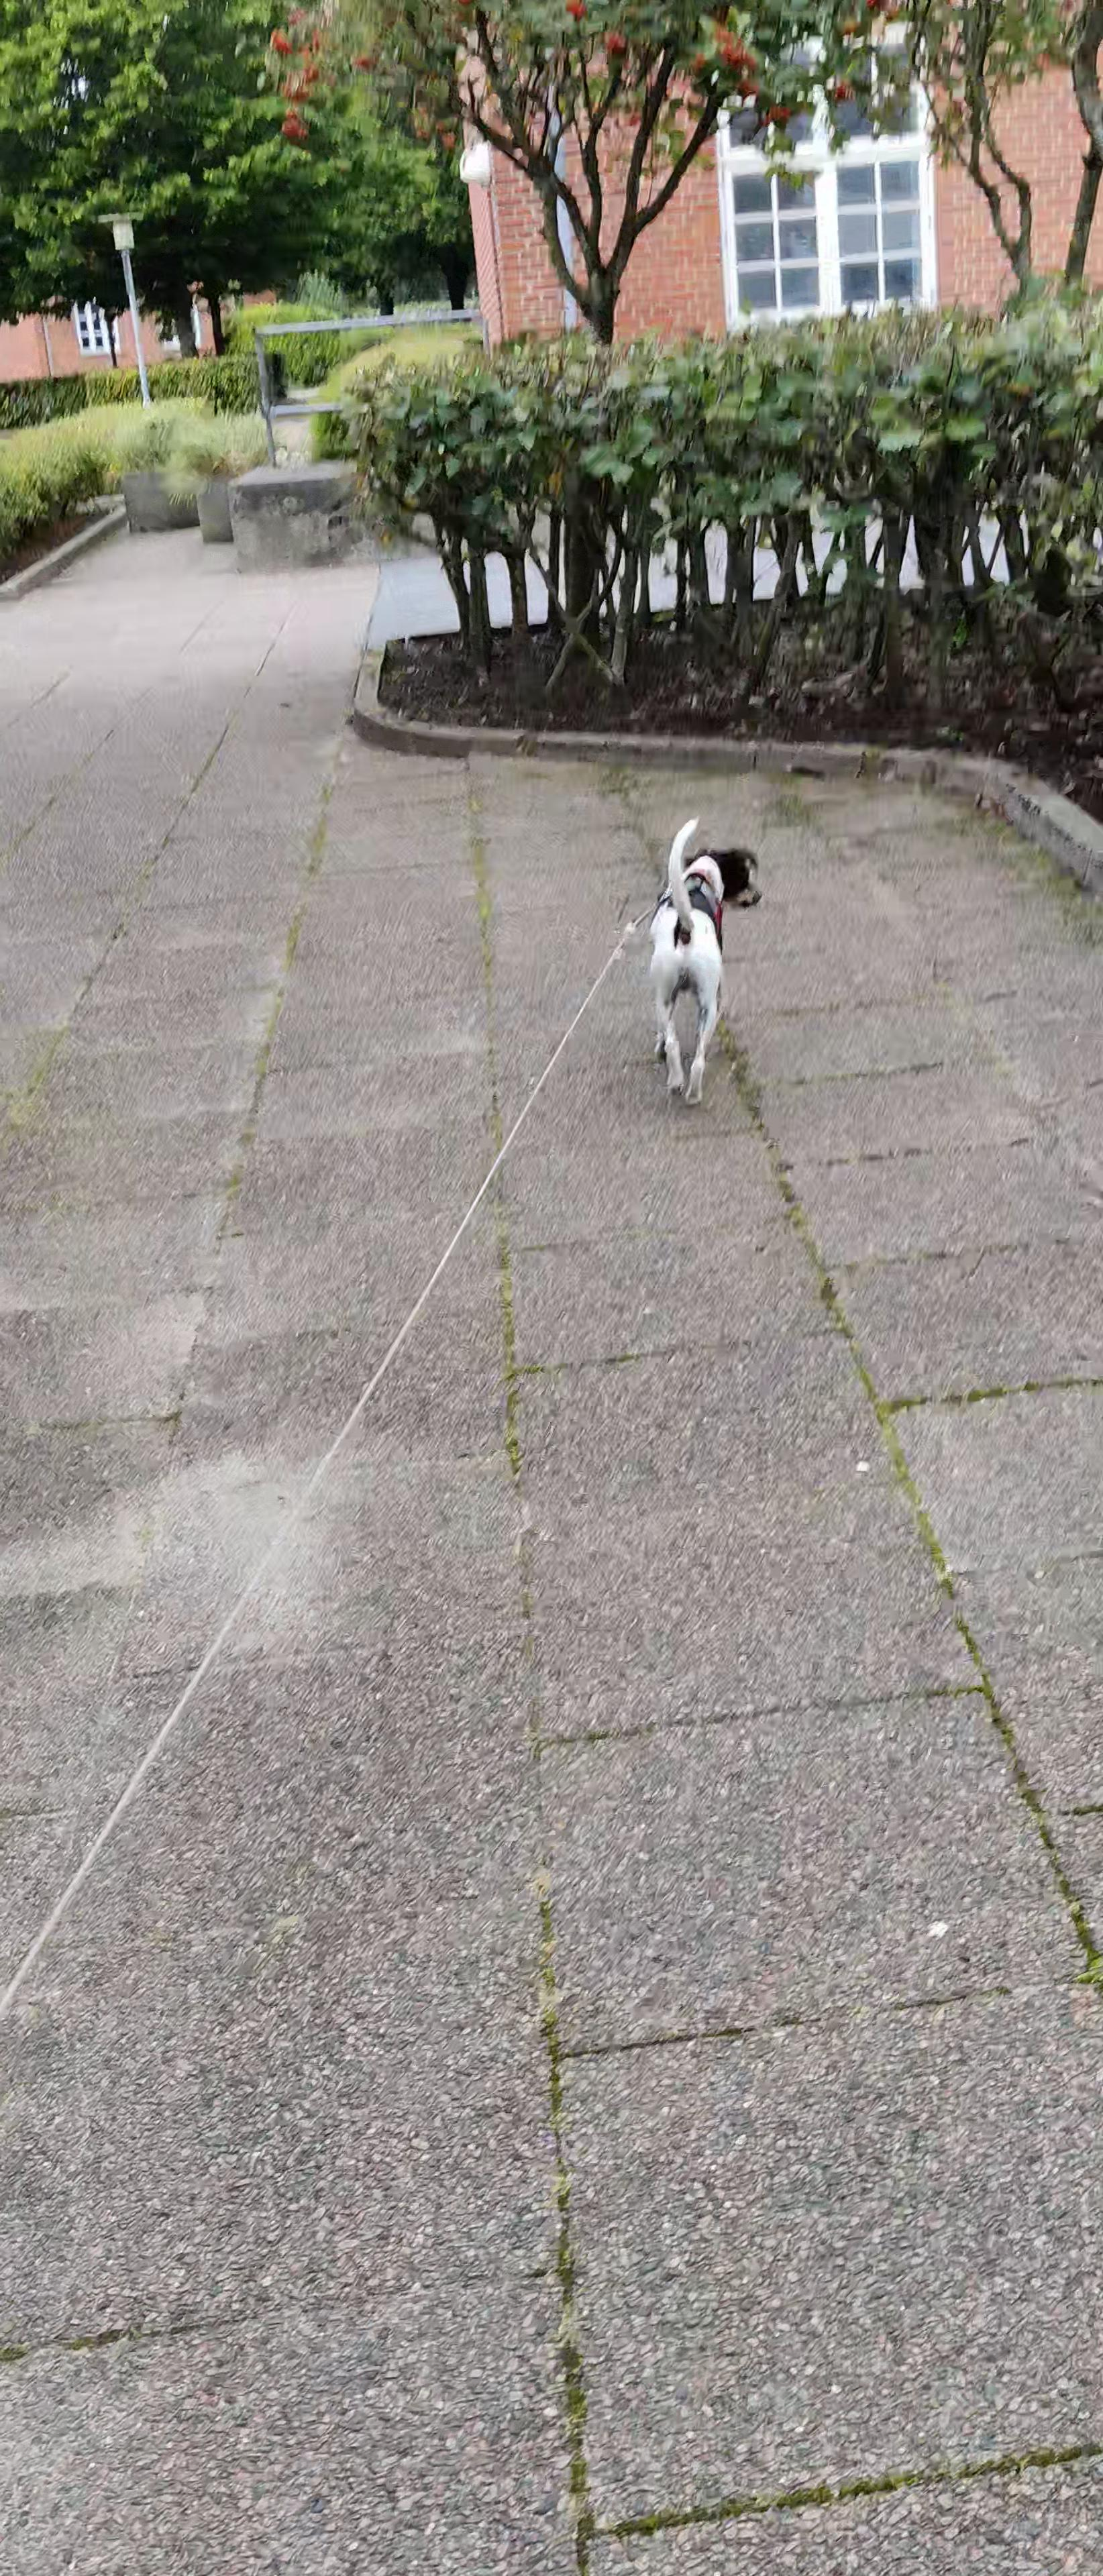Dog: (616, 807, 782, 1109)
